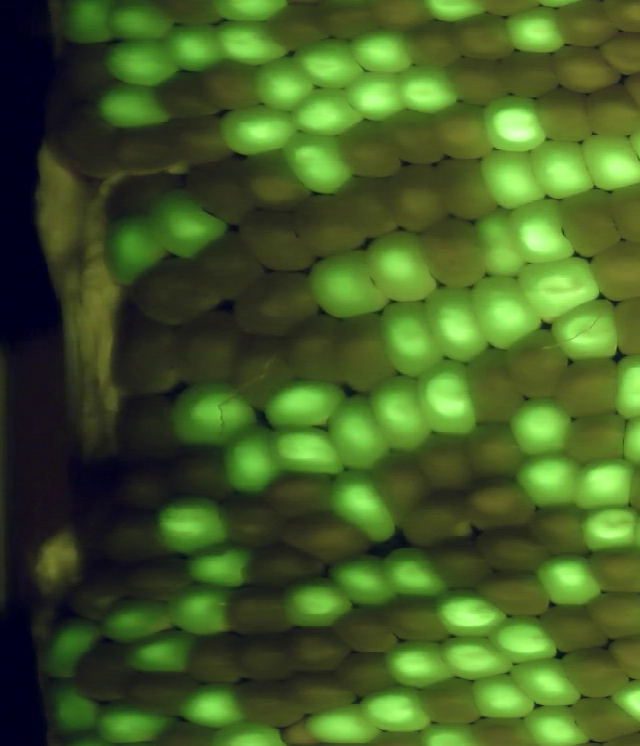fluorescent: (137, 185, 236, 263), (301, 242, 396, 322), (460, 271, 548, 357), (514, 249, 607, 329), (166, 377, 263, 452), (418, 279, 497, 370), (375, 296, 455, 381), (360, 226, 443, 307), (97, 208, 172, 295), (365, 369, 439, 455), (149, 490, 239, 560), (326, 465, 401, 546), (546, 293, 630, 365), (413, 356, 483, 440), (505, 193, 582, 269), (327, 390, 395, 474), (261, 420, 351, 482), (264, 371, 351, 435), (280, 127, 358, 197), (215, 100, 304, 160), (505, 393, 581, 462), (475, 90, 552, 158), (377, 541, 456, 606), (322, 548, 406, 609), (218, 424, 286, 499), (469, 203, 531, 285), (98, 36, 188, 91), (477, 146, 553, 211), (91, 80, 180, 135), (248, 53, 323, 118), (509, 450, 584, 515), (526, 136, 600, 201), (287, 83, 371, 140), (205, 15, 296, 67), (355, 683, 441, 738), (431, 583, 511, 642), (380, 633, 461, 691), (90, 695, 181, 746), (159, 582, 243, 637), (121, 624, 205, 679), (289, 36, 368, 94), (533, 550, 606, 612), (508, 654, 586, 711), (436, 630, 521, 682), (94, 595, 180, 646), (38, 676, 107, 739), (393, 58, 465, 118), (344, 65, 413, 127), (175, 678, 254, 732), (568, 454, 639, 513), (496, 5, 573, 59), (35, 615, 98, 681), (284, 581, 365, 632), (160, 19, 232, 76), (183, 538, 259, 592), (302, 697, 385, 746), (342, 27, 420, 79), (575, 130, 640, 192), (469, 670, 544, 721), (488, 609, 560, 662), (516, 700, 596, 746), (103, 1, 181, 46), (574, 502, 640, 553), (52, 1, 118, 51), (203, 716, 292, 746), (608, 350, 640, 423), (206, 1, 298, 25), (415, 718, 491, 746), (418, 1, 491, 26), (608, 675, 640, 732)
nonfluorescent: (224, 266, 327, 348), (118, 254, 224, 333), (40, 100, 126, 190), (104, 314, 189, 401), (233, 200, 323, 279), (162, 306, 244, 391), (284, 187, 374, 263), (326, 307, 399, 396), (499, 325, 578, 406), (379, 159, 457, 241), (413, 214, 491, 296), (185, 232, 273, 303), (461, 342, 531, 430), (183, 154, 264, 230), (549, 184, 628, 261), (279, 507, 375, 570), (64, 633, 143, 709), (330, 112, 410, 187), (325, 170, 408, 242), (365, 449, 435, 534), (225, 328, 294, 414), (95, 166, 191, 227), (396, 487, 482, 553), (546, 352, 626, 422), (283, 305, 351, 387), (104, 123, 200, 181), (161, 435, 239, 506), (455, 471, 542, 534), (429, 93, 503, 167), (44, 39, 126, 105), (236, 143, 313, 213), (102, 449, 183, 515), (471, 523, 560, 583), (111, 396, 186, 467), (426, 155, 502, 225), (410, 427, 486, 497), (97, 502, 175, 570), (159, 111, 247, 170), (214, 486, 290, 553), (470, 563, 556, 622), (234, 540, 326, 594), (377, 105, 450, 173), (120, 667, 209, 722), (463, 416, 530, 489), (102, 552, 198, 602), (261, 462, 338, 524), (558, 409, 635, 471), (530, 80, 599, 149), (536, 596, 614, 657), (190, 54, 269, 114), (219, 582, 302, 639), (230, 673, 310, 730), (378, 592, 457, 649), (547, 41, 627, 97), (220, 629, 301, 684), (489, 45, 567, 102), (556, 643, 634, 700), (412, 671, 487, 730), (274, 623, 359, 674), (55, 570, 138, 622), (148, 66, 226, 121), (438, 53, 513, 110), (421, 536, 497, 592), (180, 627, 245, 692), (445, 10, 520, 65), (583, 73, 640, 145), (328, 647, 404, 701), (323, 603, 403, 654), (286, 668, 366, 718), (524, 505, 594, 562), (567, 693, 640, 746), (586, 235, 640, 304), (262, 2, 336, 52), (549, 1, 624, 50), (580, 544, 640, 600), (310, 1, 383, 45), (584, 587, 640, 643), (403, 16, 463, 68), (362, 1, 444, 37), (605, 177, 640, 250), (594, 27, 640, 80), (148, 1, 227, 30), (609, 289, 640, 362), (468, 716, 540, 746), (599, 631, 640, 682), (593, 1, 640, 42)
